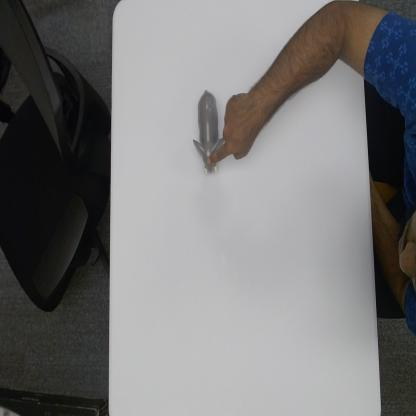Arm: (260, 0, 365, 128)
Elephant: (192, 88, 225, 176)
Hand: (210, 90, 259, 175)
